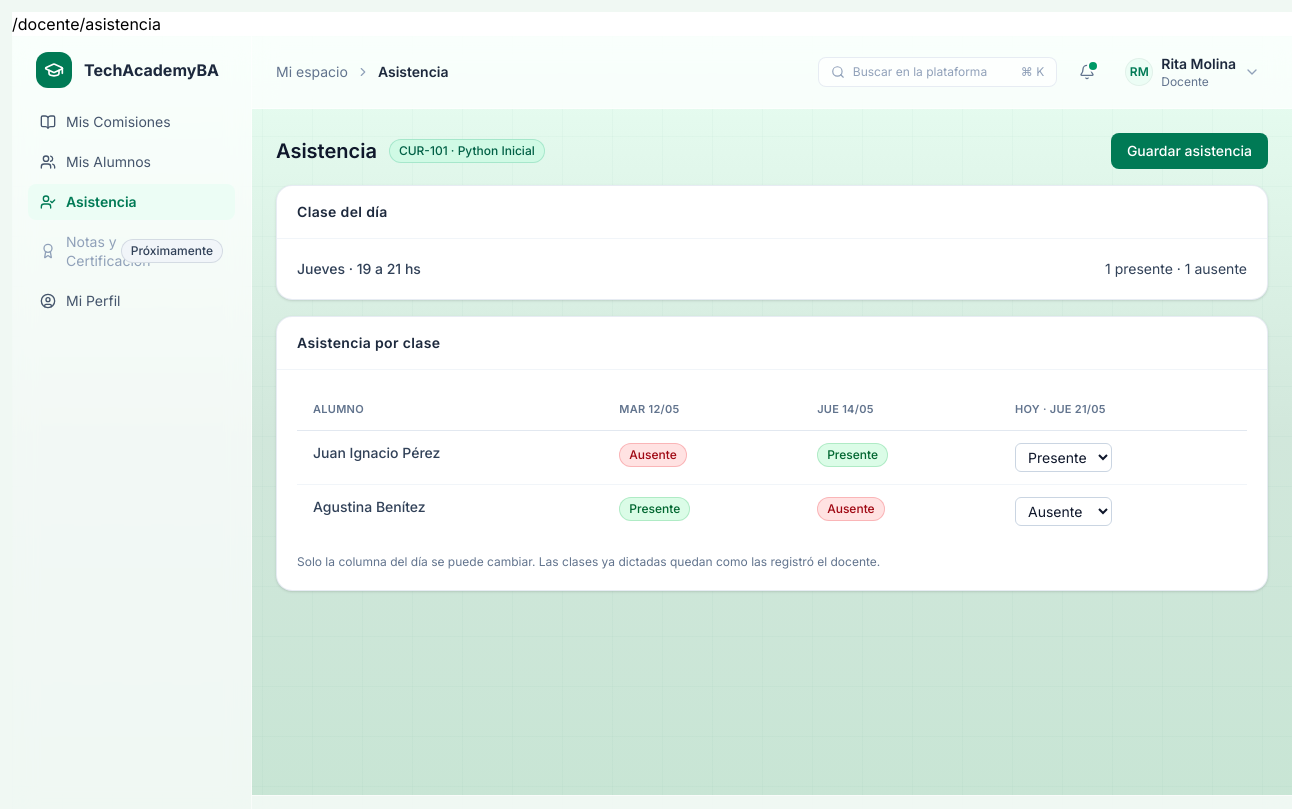
Test: la columna del día › recalcula los contadores de la barra cuando el docente marca un ausente
Expected: the heading "Asistencia" is shown, left=276, top=137, right=377, bottom=165
Expected: the text "Juan Ignacio Pérez" is shown, left=313, top=444, right=440, bottom=461
Select "Ausente" in the dropdown named "Asistencia de Juan Ignacio Pérez" at (1064, 457), box left=1015, top=443, right=1112, bottom=472
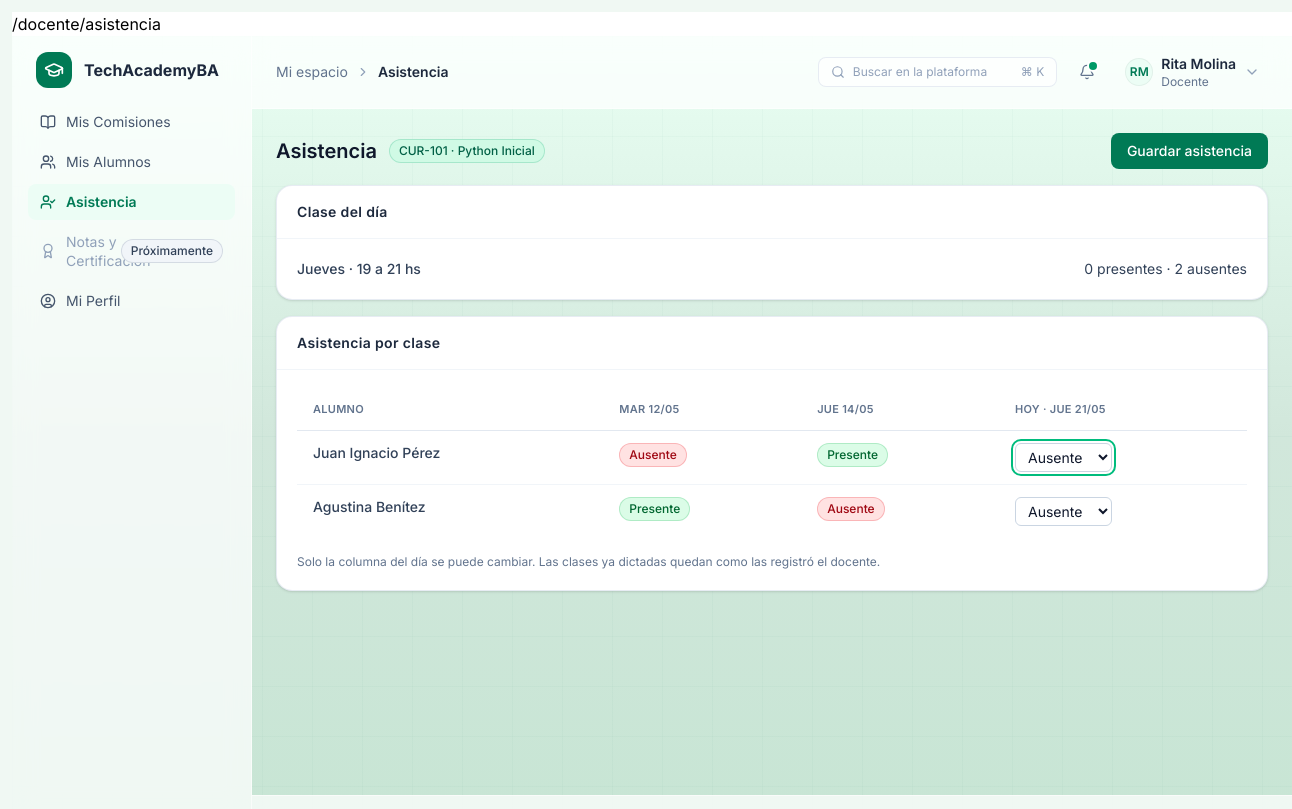
Now the text "0 presentes · 2 ausentes" is shown, box left=1084, top=259, right=1247, bottom=279
